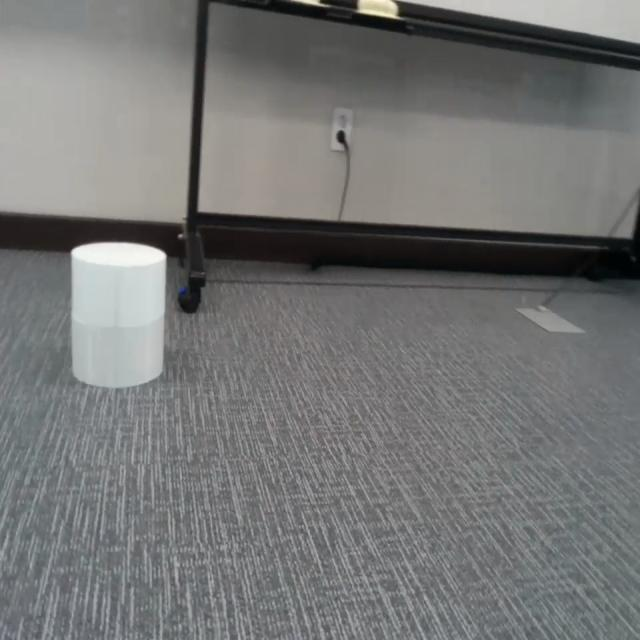cylinder: (70, 240, 168, 390)
